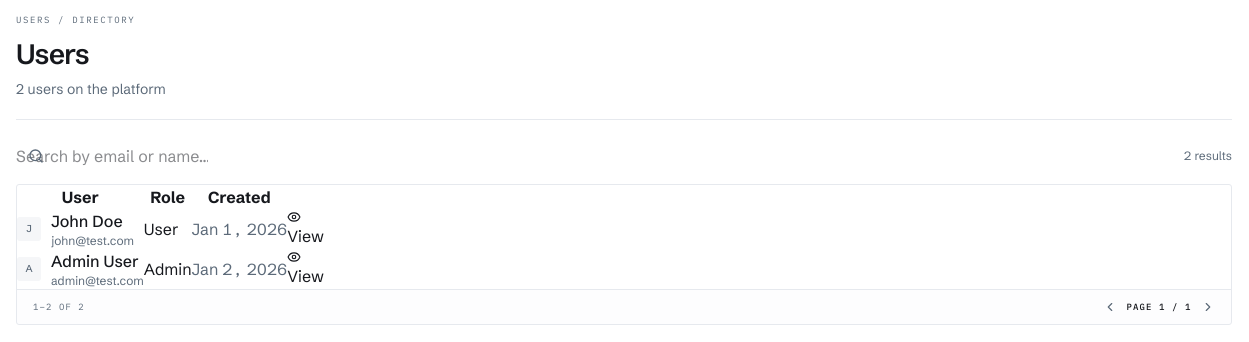
Test: AdminUsersPage › la recherche vide réaffiche tous les utilisateurs
Expected: the text "john@test.com" is shown, [51, 232, 134, 248]
Note: Tape une recherche
Type "admin" into the field with placeholder "Search by email or name…" at (112, 156), box [16, 144, 208, 168]
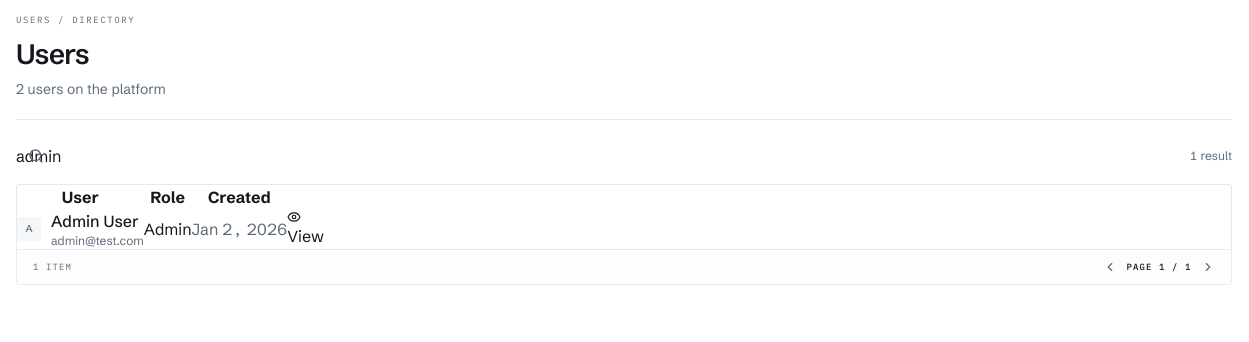
Now the text "john@test.com" is gone
Note: Efface la recherche
Clear the field with placeholder "Search by email or name…" at (112, 156), box [16, 144, 208, 168]
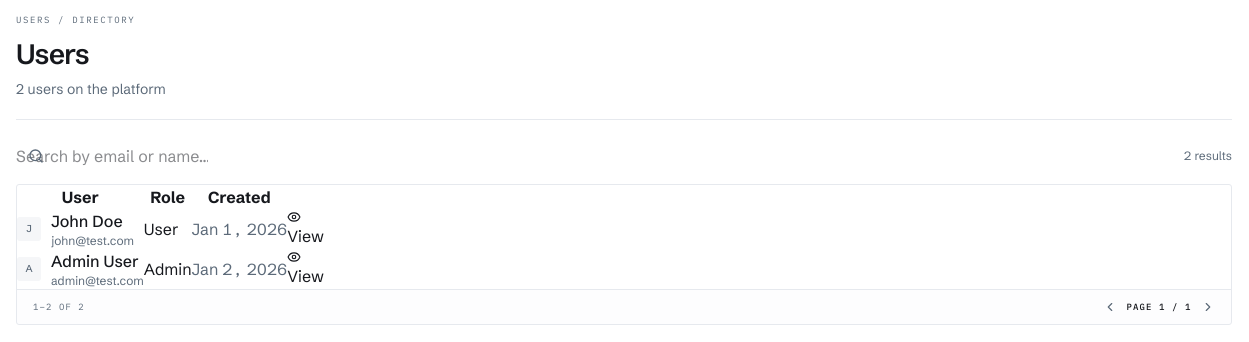
Expected: the text "admin@test.com" is shown, [51, 272, 144, 288]
Now the text "john@test.com" is shown, box [51, 232, 134, 248]
